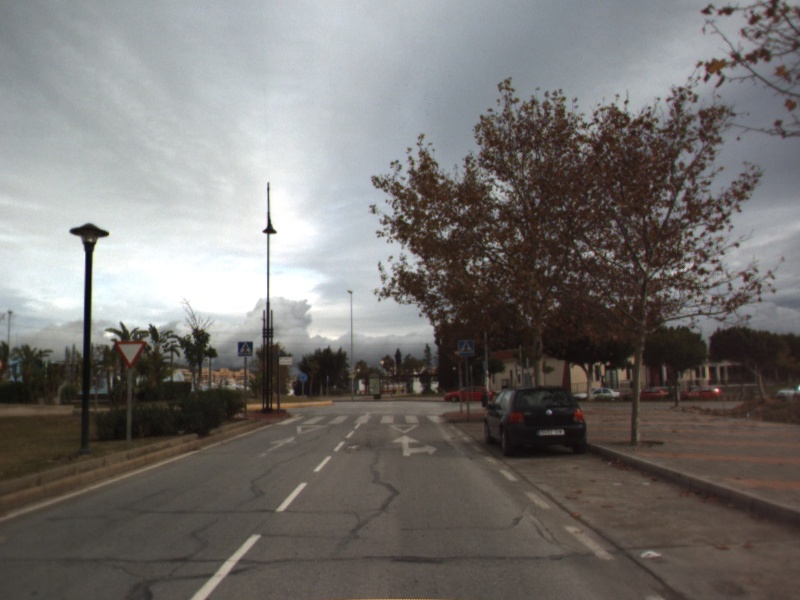STRAIGHT: (257, 434, 300, 459)
STRAIGHT_RIGHT: (389, 433, 440, 458)
